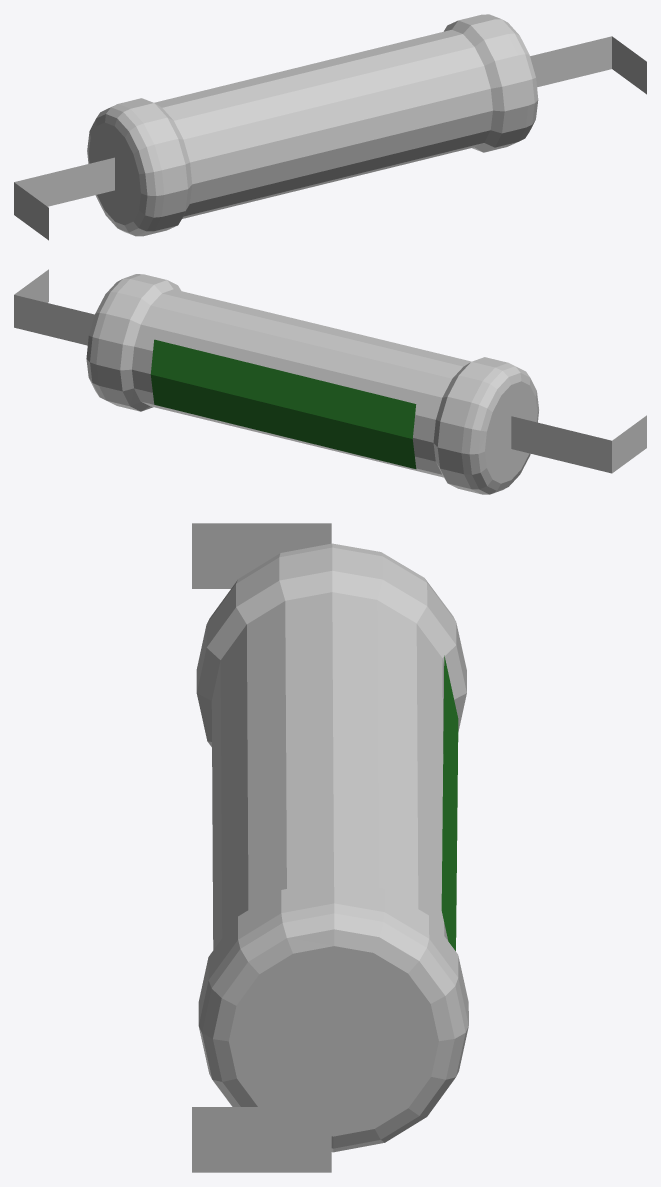
The picture shows the model from 3 angles, top to bottom: view 1: azimuth 30°, elevation 25°; view 2: azimuth 150°, elevation 25°; view 3: azimuth 270°, elevation 25°; orthographic projection. The views are drawn at different scales.
Parts seen in each view (by area): view 1: ShapeIndexedFaceSet.001_ShapeIndexedFaceSet.002, ShapeIndexedFaceSet.003_ShapeIndexedFaceSet, ShapeIndexedFaceSet.002_ShapeIndexedFaceSet.003; view 2: ShapeIndexedFaceSet.001_ShapeIndexedFaceSet.002, ShapeIndexedFaceSet_ShapeIndexedFaceSet.001, ShapeIndexedFaceSet.003_ShapeIndexedFaceSet, ShapeIndexedFaceSet.002_ShapeIndexedFaceSet.003; view 3: ShapeIndexedFaceSet.001_ShapeIndexedFaceSet.002, ShapeIndexedFaceSet.002_ShapeIndexedFaceSet.003, ShapeIndexedFaceSet.003_ShapeIndexedFaceSet, ShapeIndexedFaceSet_ShapeIndexedFaceSet.001.
Boxes of the visible parts, bbox=[...] form: ShapeIndexedFaceSet.001_ShapeIndexedFaceSet.002: bbox=[87, 14, 538, 236]; ShapeIndexedFaceSet.003_ShapeIndexedFaceSet: bbox=[14, 157, 114, 240]; ShapeIndexedFaceSet.002_ShapeIndexedFaceSet.003: bbox=[530, 36, 646, 94]; ShapeIndexedFaceSet.001_ShapeIndexedFaceSet.002: bbox=[86, 274, 538, 494]; ShapeIndexedFaceSet_ShapeIndexedFaceSet.001: bbox=[150, 339, 416, 468]; ShapeIndexedFaceSet.003_ShapeIndexedFaceSet: bbox=[511, 415, 646, 473]; ShapeIndexedFaceSet.002_ShapeIndexedFaceSet.003: bbox=[14, 269, 94, 345]; ShapeIndexedFaceSet.001_ShapeIndexedFaceSet.002: bbox=[196, 543, 468, 1152]; ShapeIndexedFaceSet.002_ShapeIndexedFaceSet.003: bbox=[192, 1107, 331, 1172]; ShapeIndexedFaceSet.003_ShapeIndexedFaceSet: bbox=[192, 523, 331, 588]; ShapeIndexedFaceSet_ShapeIndexedFaceSet.001: bbox=[441, 655, 458, 950].
Size of the model in its own units: 7.62 by 1.49 by 1.53.
